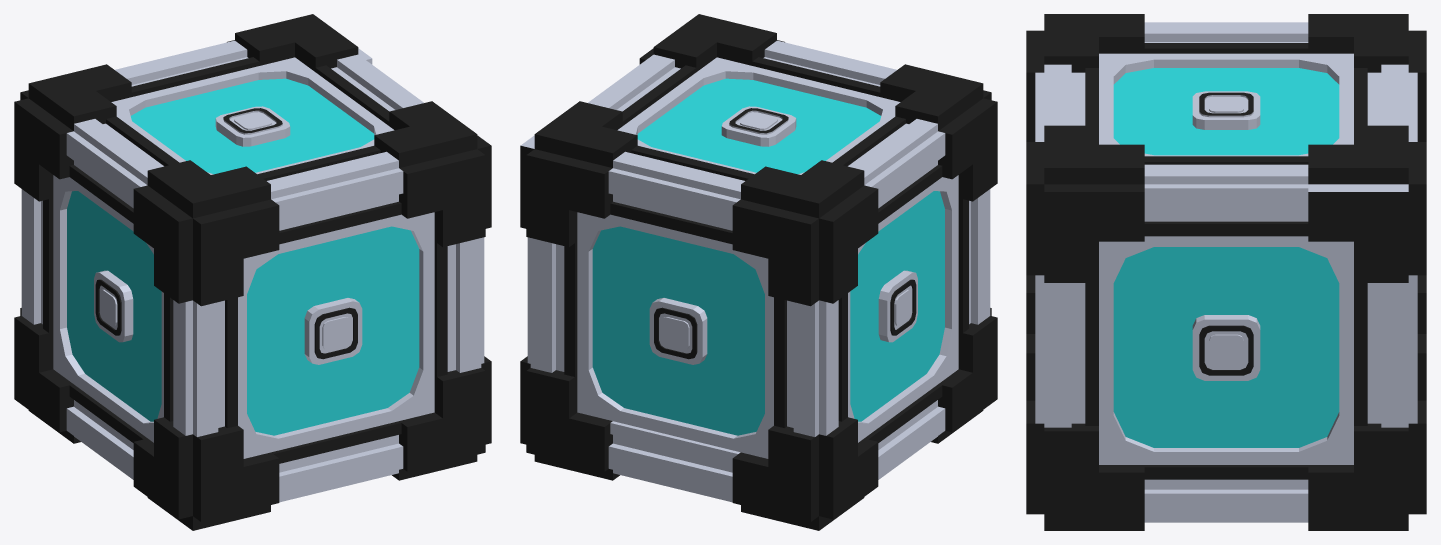
3 views of the same model, side by side, from view 1: azimuth 30°, elevation 25°; view 2: azimuth 150°, elevation 25°; view 3: azimuth 270°, elevation 25° (orthographic). The views are drawn at different scales.
Parts seen in each view (by area): view 1: box; view 2: box; view 3: box.
Boxes of the visible parts, <box> form: box: <box>14,14,491,530</box>; box: <box>520,14,997,530</box>; box: <box>1026,14,1426,530</box>.
Size of the model in its own units: 220 by 220 by 220.
